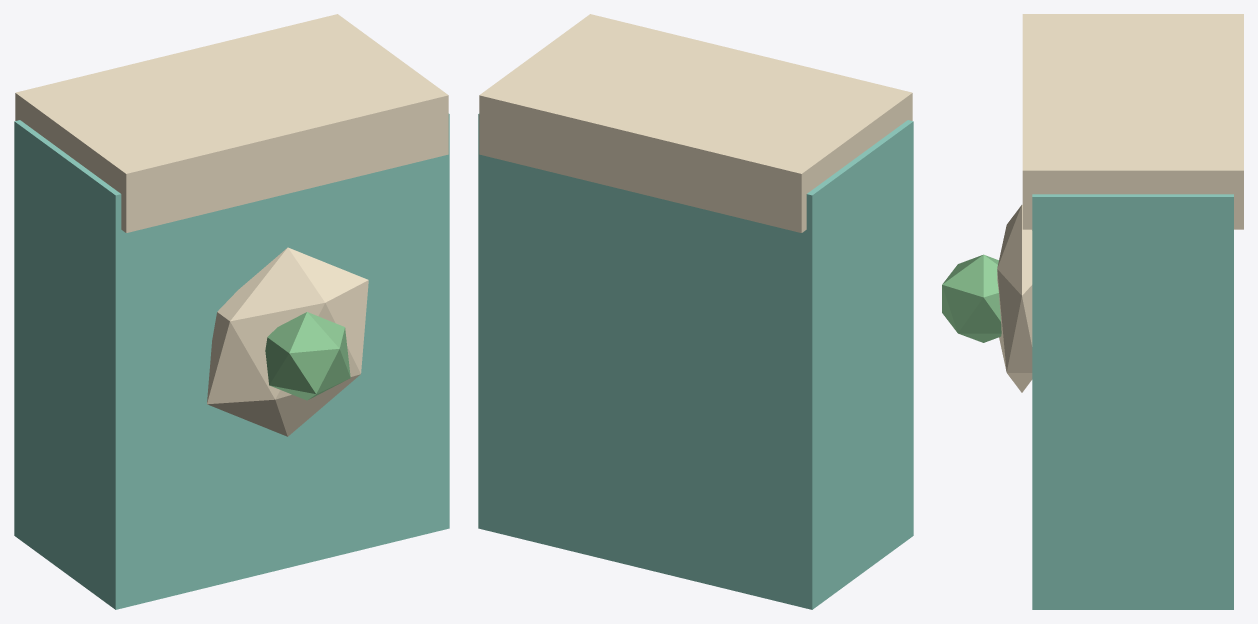
The model's file is fertilizer_preserve.glb.
The picture shows the model from 3 angles, left to right: view 1: azimuth 30°, elevation 25°; view 2: azimuth 150°, elevation 25°; view 3: azimuth 270°, elevation 25°; orthographic projection.
Parts seen in each view (by area): view 1: fertilizer pouch.002, folded pouch rim.002, bright emblem.002, protected seed; view 2: fertilizer pouch.002, folded pouch rim.002; view 3: fertilizer pouch.002, folded pouch rim.002, bright emblem.002, protected seed.
Part boxes in pixels (x1,y1,x2,y2): fertilizer pouch.002: (14, 113, 449, 609); folded pouch rim.002: (15, 14, 448, 232); bright emblem.002: (207, 247, 368, 436); protected seed: (265, 312, 350, 400); fertilizer pouch.002: (478, 113, 913, 609); folded pouch rim.002: (479, 14, 912, 232); fertilizer pouch.002: (1032, 194, 1233, 609); folded pouch rim.002: (1022, 14, 1243, 229); bright emblem.002: (997, 205, 1032, 392); protected seed: (942, 254, 1001, 342).
Size of the model in its own units: 0.59 by 0.74 by 0.4638.
